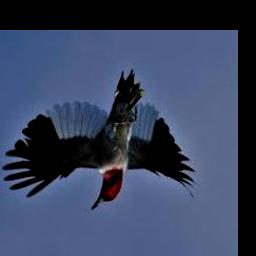Woodpecker: (3, 70, 196, 210)
